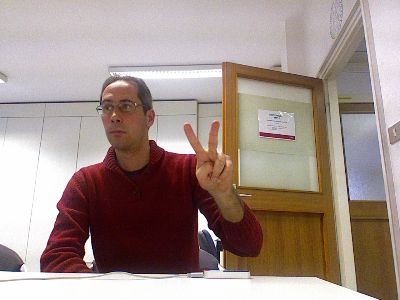剪刀: (181, 118, 233, 191)
